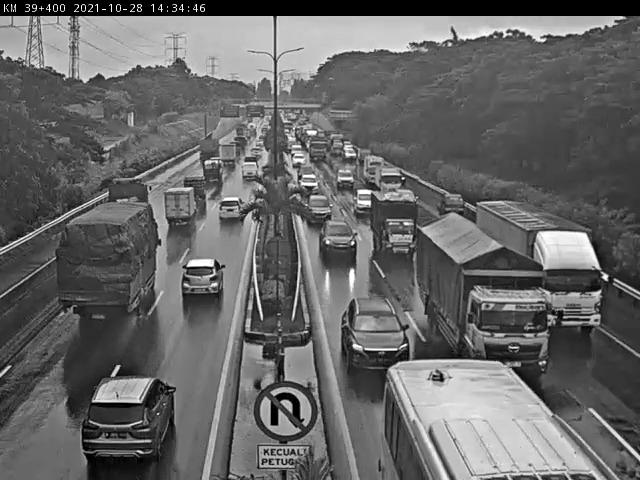big bus: (378, 360, 616, 480)
big truck: (420, 212, 548, 373), (474, 199, 604, 324), (58, 199, 161, 309)
car: (80, 374, 173, 468), (343, 293, 409, 369), (184, 255, 226, 295), (319, 220, 360, 258), (353, 189, 382, 215), (440, 189, 464, 215), (307, 196, 331, 221), (334, 166, 359, 189), (218, 198, 244, 220), (299, 174, 322, 195)
small truck: (374, 190, 418, 255), (106, 174, 151, 209), (164, 186, 198, 224), (375, 164, 408, 198), (360, 154, 387, 186), (183, 178, 209, 201)
